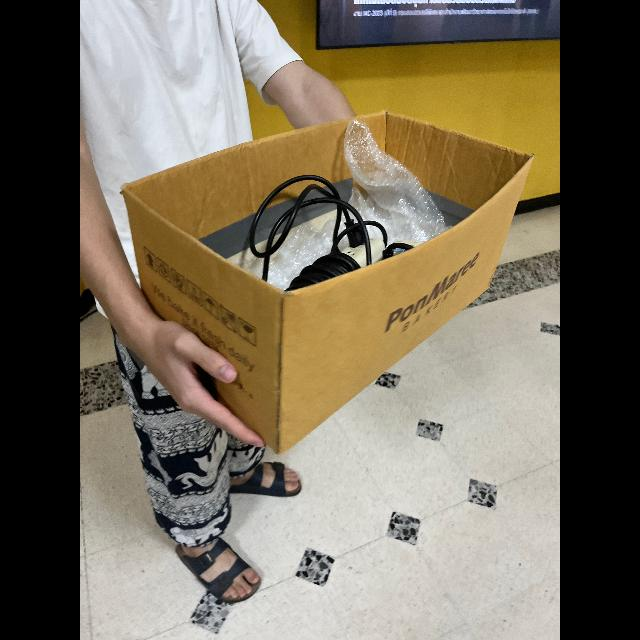cardboard_box: (118, 103, 540, 441)
